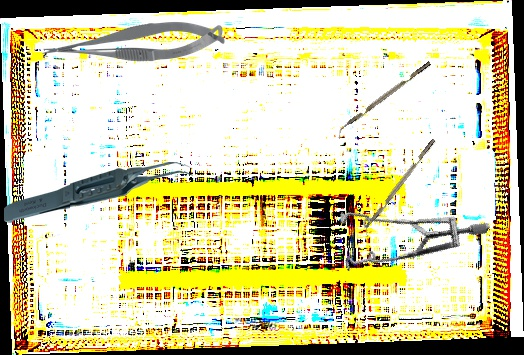Chopper: (359, 138, 441, 238), (333, 61, 435, 139)
Micro Scissor: (41, 21, 226, 62)
Speculum: (318, 158, 492, 321)
Tissue Forceps: (3, 161, 194, 224)
